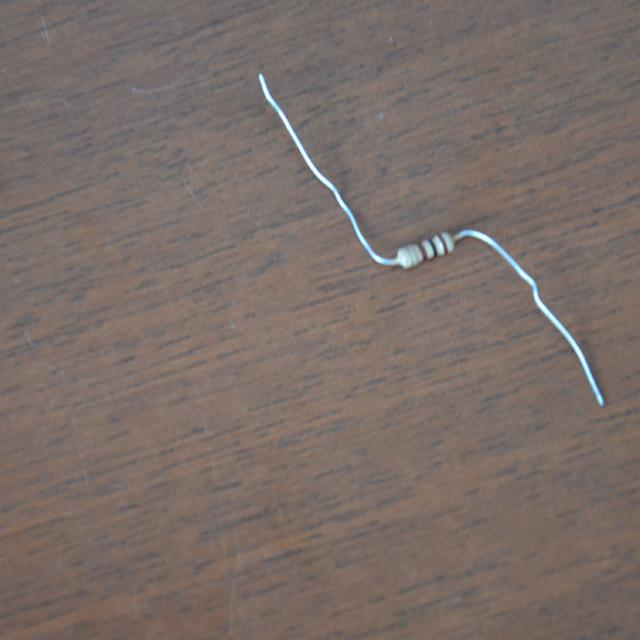black: (429, 238, 439, 256)
brown: (418, 241, 429, 260), (439, 232, 448, 253)
gold: (403, 247, 415, 264)
resistor: (389, 223, 466, 277)
